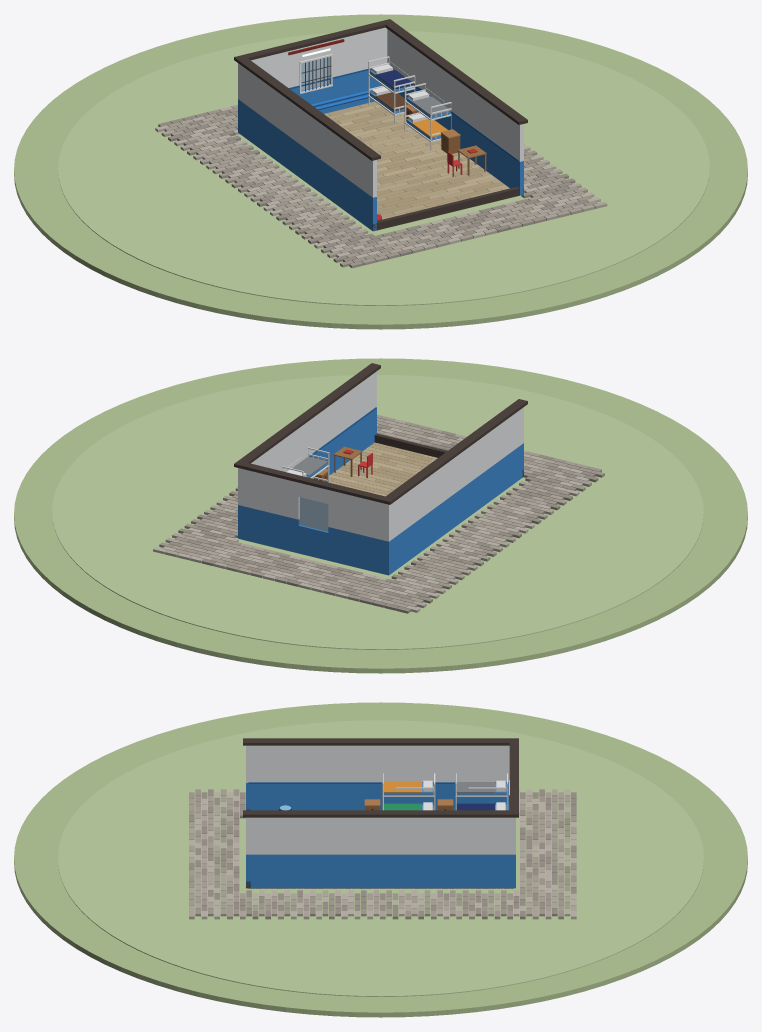
The model's file is hostel-room.glb.
The picture shows the model from 3 angles, top to bottom: view 1: azimuth 30°, elevation 25°; view 2: azimuth 150°, elevation 25°; view 3: azimuth 270°, elevation 25°; orthographic projection.
Parts seen in each view (by area): view 1: GrassInner, Grass, GrassInner.001, Pavers4, HostelWall.007, HostelWall.009, HostelWall.006, Pavers2, Pavers0, Pavers3, Pavers1, HostelPlank4 (+13 smaller); view 2: GrassInner, Grass, GrassInner.001, Pavers4, HostelWall.007, Pavers0, Pavers3, HostelWall.006, Pavers2, Pavers1, HostelWall.009, HostelWall.001 (+13 smaller); view 3: GrassInner, Grass, GrassInner.001, HostelWall.009, HostelWall.007, HostelWall.008, Pavers2, Pavers4, Pavers0, HostelWall.006, Pavers3, Pavers1 (+3 smaller).
Boxes of the visible parts, bbox=[...] form: GrassInner: bbox=[58, 33, 703, 305]; Grass: bbox=[14, 14, 747, 329]; GrassInner.001: bbox=[64, 31, 709, 303]; Pavers4: bbox=[164, 104, 587, 265]; HostelWall.007: bbox=[238, 64, 376, 197]; HostelWall.009: bbox=[387, 29, 523, 161]; HostelWall.006: bbox=[238, 99, 376, 231]; Pavers2: bbox=[158, 110, 588, 262]; Pavers0: bbox=[155, 106, 600, 258]; Pavers3: bbox=[161, 111, 607, 253]; Pavers1: bbox=[174, 108, 597, 268]; HostelPlank4: bbox=[335, 109, 504, 214]; GrassInner: bbox=[58, 376, 703, 649]; Grass: bbox=[14, 358, 747, 673]; GrassInner.001: bbox=[52, 374, 697, 647]; Pavers4: bbox=[171, 414, 591, 607]; HostelWall.007: bbox=[385, 407, 523, 541]; Pavers0: bbox=[153, 424, 589, 612]; Pavers3: bbox=[165, 419, 564, 608]; HostelWall.006: bbox=[385, 443, 523, 575]; Pavers2: bbox=[168, 424, 598, 613]; Pavers1: bbox=[159, 422, 604, 603]; HostelWall.009: bbox=[238, 371, 376, 503]; HostelWall.001: bbox=[328, 490, 390, 541]; GrassInner: bbox=[58, 720, 703, 993]; Grass: bbox=[14, 702, 747, 1017]; GrassInner.001: bbox=[58, 723, 703, 996]; HostelWall.009: bbox=[246, 817, 515, 854]; HostelWall.007: bbox=[246, 745, 509, 782]; HostelWall.008: bbox=[246, 854, 515, 888]; Pavers2: bbox=[189, 789, 576, 919]; Pavers4: bbox=[189, 789, 576, 919]; Pavers0: bbox=[189, 789, 576, 919]; HostelWall.006: bbox=[246, 783, 509, 810]; Pavers3: bbox=[189, 789, 576, 919]; Pavers1: bbox=[189, 789, 576, 919].
Size of the model in its own units: 27.66 by 3.57 by 27.66.
